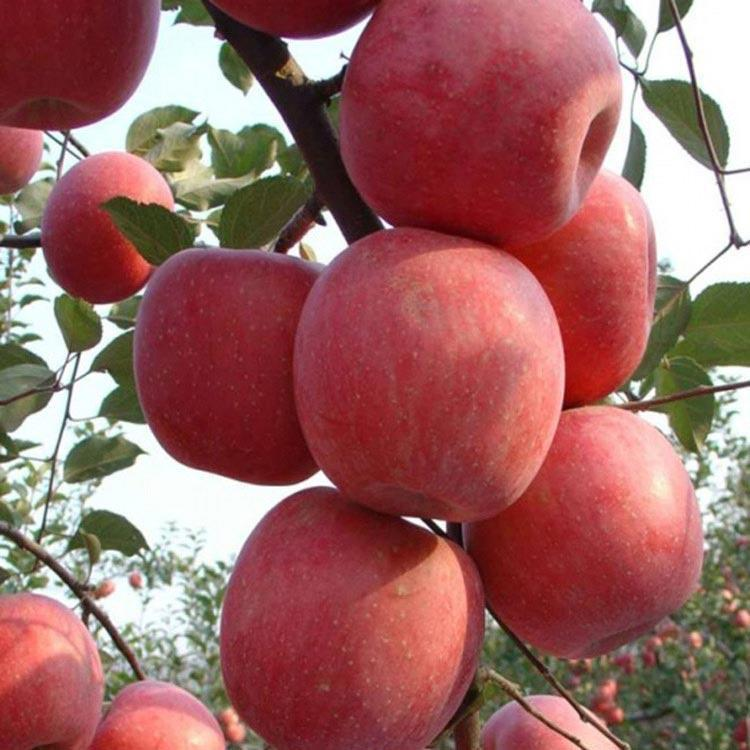apple: (137, 252, 501, 528), (341, 1, 617, 243), (218, 489, 478, 742), (468, 406, 703, 662), (136, 241, 336, 489), (499, 169, 654, 405), (38, 151, 172, 307), (1, 591, 100, 745), (87, 680, 228, 749)
